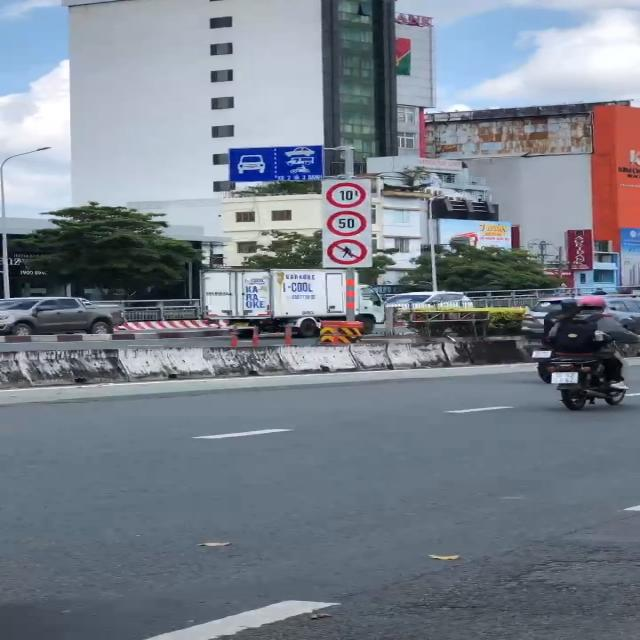Bien bao cam nguoi di bo: (326, 238, 370, 265)
Bien bao toc do toi da cho phep: (327, 208, 371, 239)
